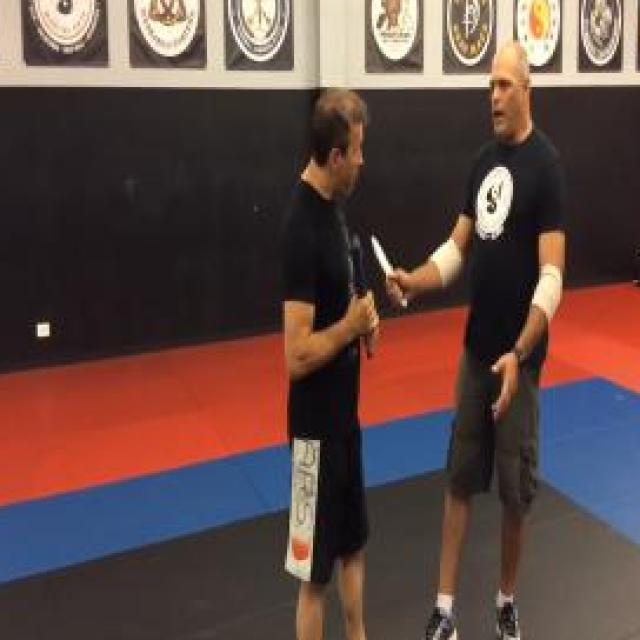knife: (369, 228, 412, 314)
